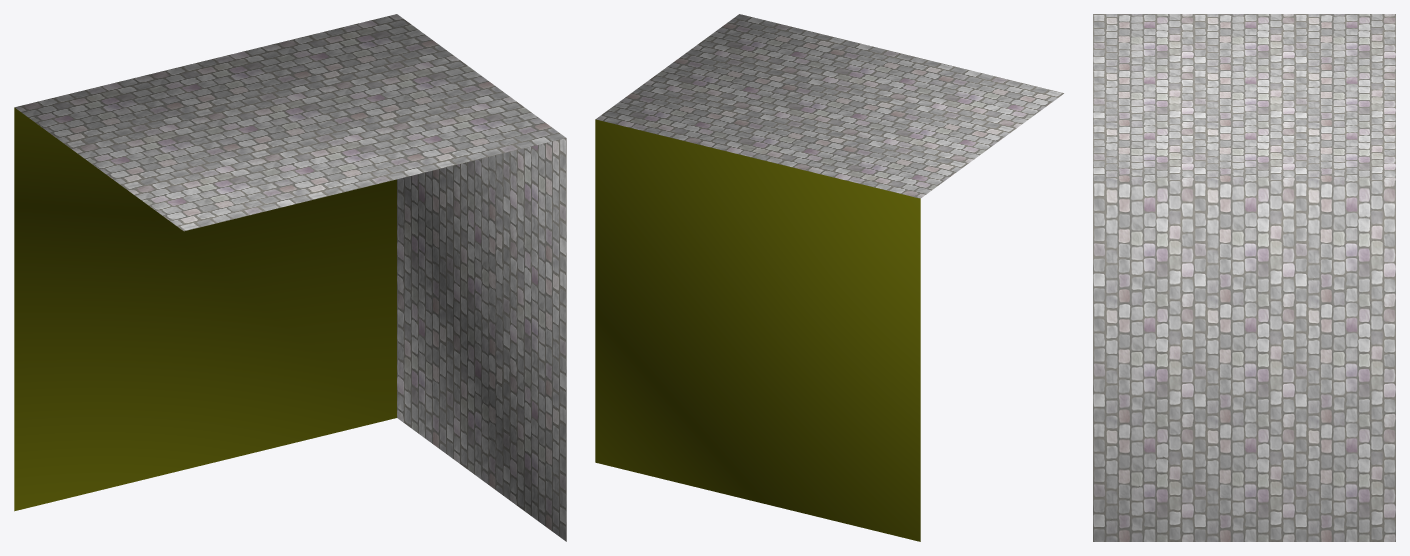
The model's file is Sektglas_test.obj.
3 views of the same model, side by side, from view 1: azimuth 30°, elevation 25°; view 2: azimuth 150°, elevation 25°; view 3: azimuth 270°, elevation 25° (orthographic). The views are drawn at different scales.
Visible parts, largest first — view 1: Mesh.001_Room_Box; view 2: Mesh.001_Room_Box; view 3: Mesh.001_Room_Box.
Boxes of the visible parts, box(x1,y1,x2,y2) form: Mesh.001_Room_Box: box(14, 14, 566, 541); Mesh.001_Room_Box: box(595, 14, 1063, 541); Mesh.001_Room_Box: box(1093, 14, 1395, 541).
Bounding box in the file's own units: 16.84 × 16.99 × 12.92.
Materials: 3 (1 with a texture image).
